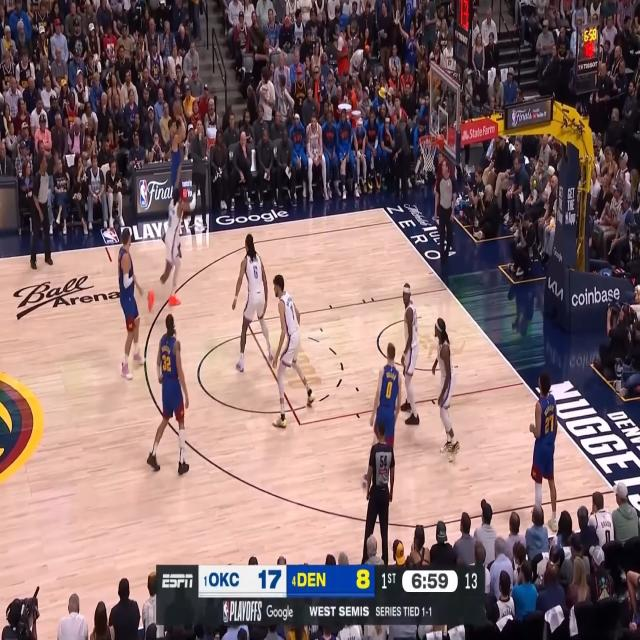ball: (171, 98, 182, 117)
number: (162, 353, 172, 373), (546, 414, 554, 435), (385, 380, 393, 400), (290, 305, 295, 322), (254, 266, 258, 280)
player: (145, 314, 191, 477), (359, 342, 402, 497), (272, 274, 315, 428), (231, 232, 274, 372), (116, 225, 148, 381), (529, 370, 559, 533), (431, 316, 461, 463), (400, 280, 422, 427)
player-jump-shot: (167, 96, 188, 263)
player-shot-block: (147, 160, 198, 313)
referee: (360, 420, 396, 566), (432, 156, 457, 276), (30, 154, 54, 269)
rim: (420, 135, 439, 146)
